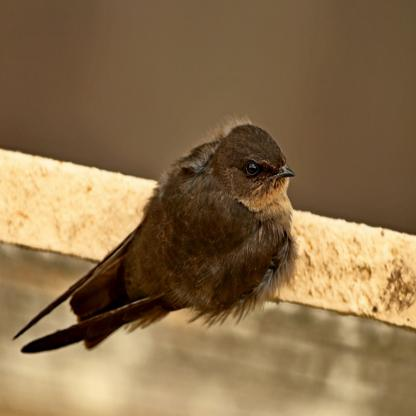Burung: (11, 123, 294, 354)
